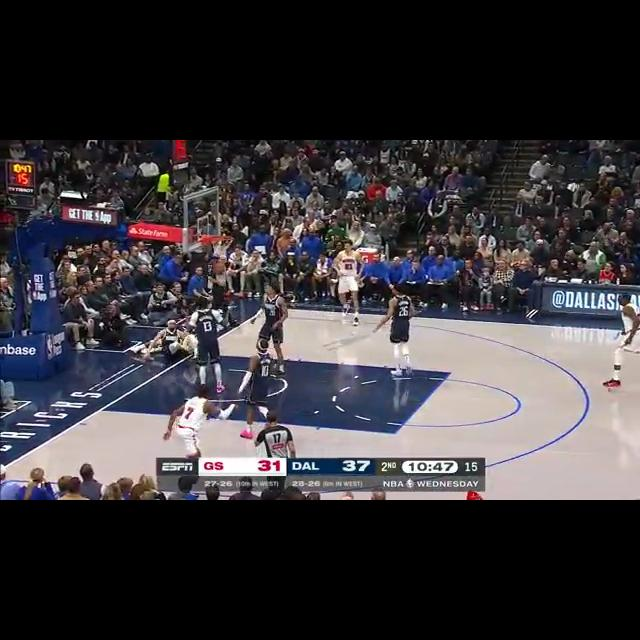Ball: (210, 260, 227, 280)
Team-1-Player: (180, 294, 230, 394), (370, 286, 418, 378), (248, 282, 294, 366), (236, 339, 278, 415)
Team-2-Player: (160, 382, 242, 454), (604, 289, 640, 391), (331, 242, 364, 324)
